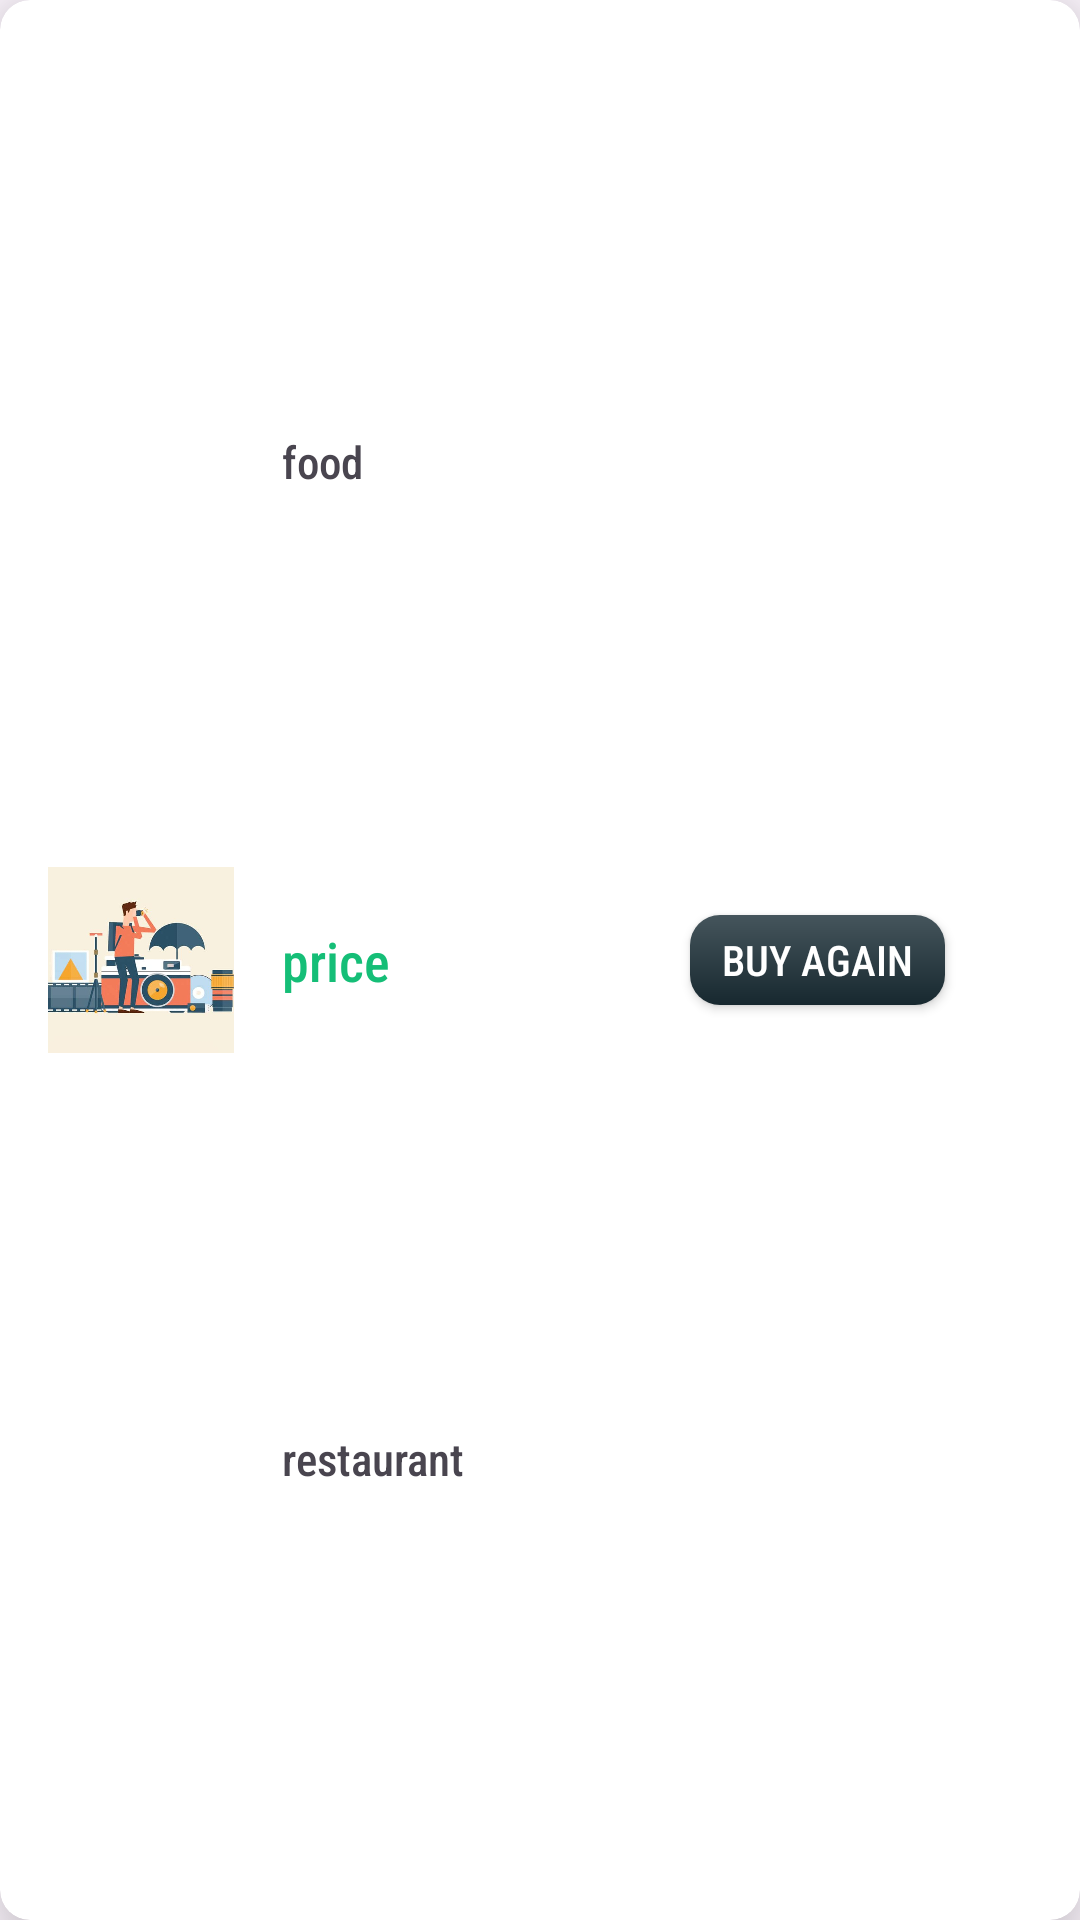

Where icons sit on this 1080*1920 app screen, as rect(x1, y1, x2, y2):
placeholderimage: rect(48, 867, 234, 1053)
